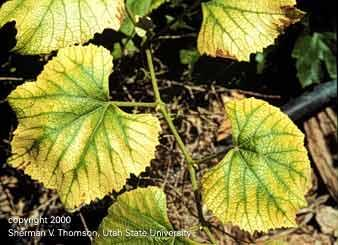chlorosis: (8, 45, 159, 208), (202, 98, 310, 231), (0, 0, 124, 53), (198, 0, 302, 60), (94, 187, 198, 244)
